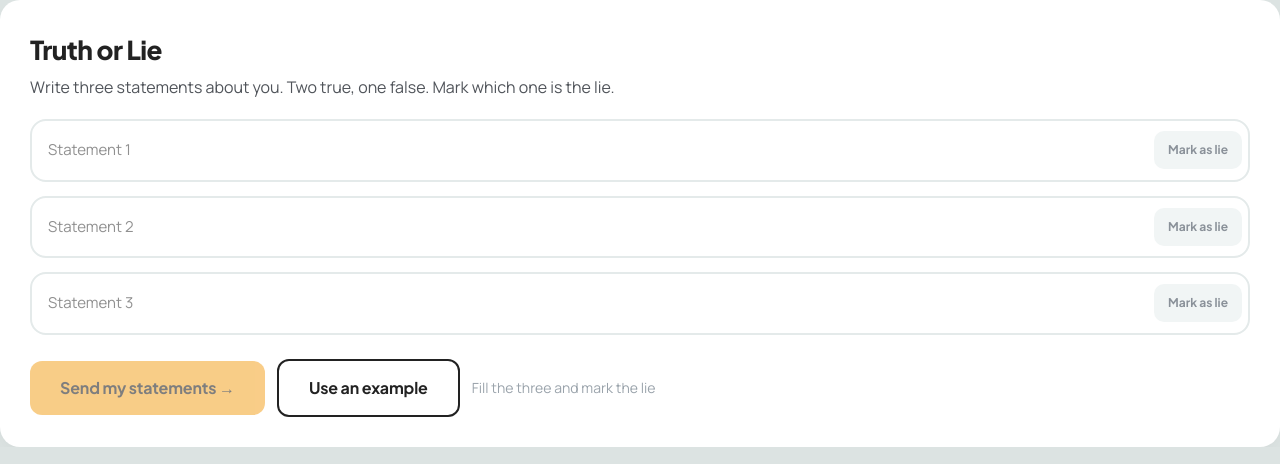
Test case: WriteStatementsView › shows a clear button only for non-empty fields, and clears that field's text when clicked
Type "Something" into the field with placeholder "Statement 1" at (595, 150), box [48, 127, 1142, 174]
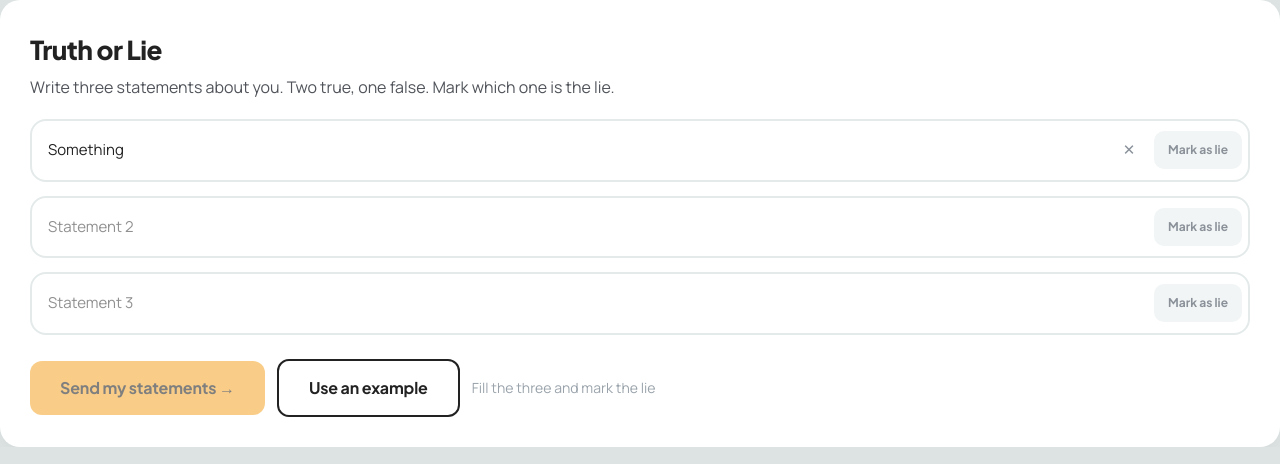
Now the number of buttons named "Clear statement" is 1
Click the button named "Clear statement" at (1129, 150), box [1116, 137, 1142, 163]
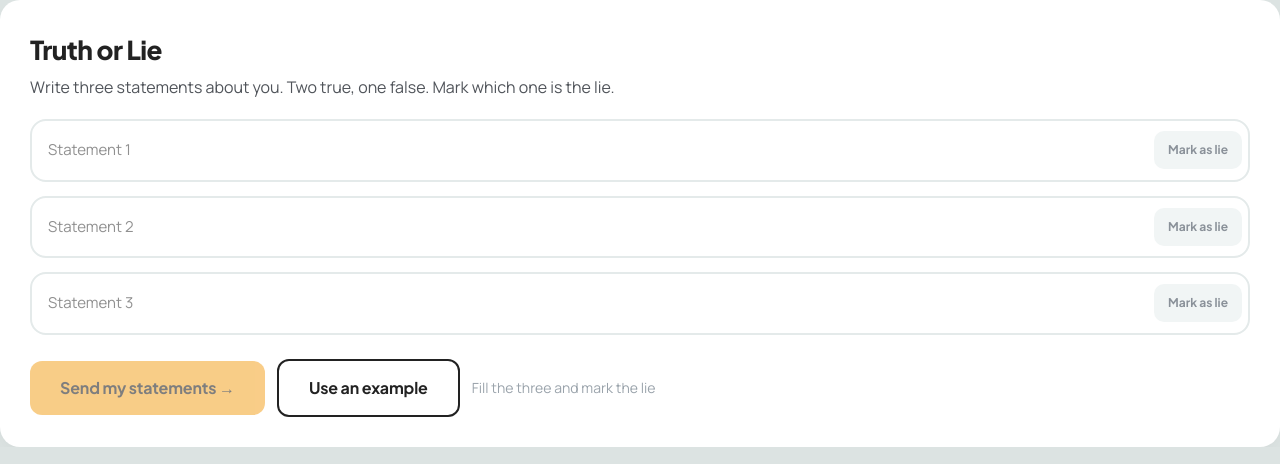
Now the field with placeholder "Statement 1" is empty, box [48, 127, 1142, 174]
